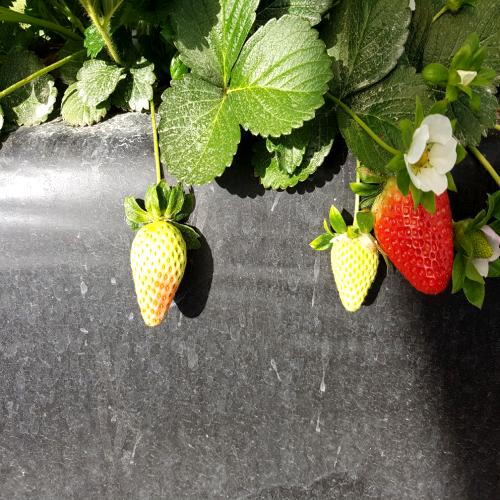partially-ripe: (123, 218, 197, 344)
ripe: (368, 159, 457, 307)
